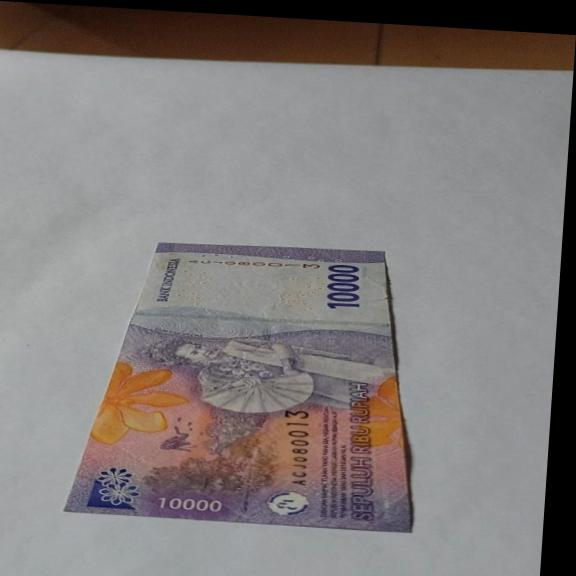Kertas: (61, 232, 430, 534), (323, 262, 364, 311)
